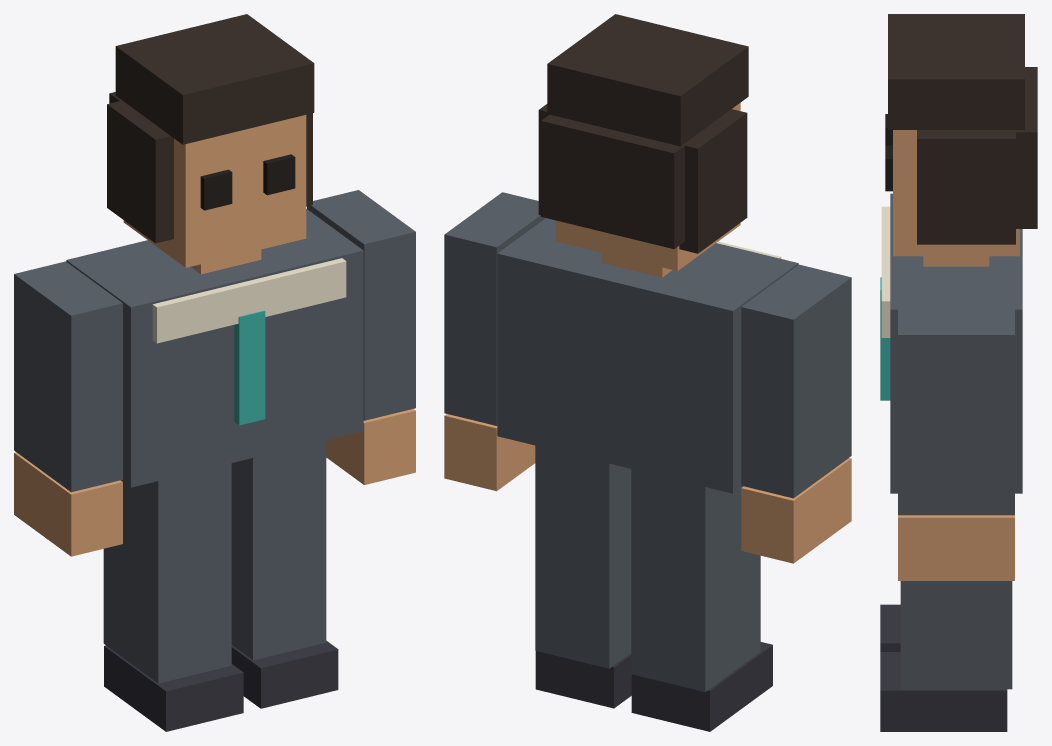
The model's file is people__businessman.glb.
The picture shows the model from 3 angles, left to right: view 1: azimuth 30°, elevation 25°; view 2: azimuth 150°, elevation 25°; view 3: azimuth 270°, elevation 25°; orthographic projection. The views are drawn at different scales.
Size of the model in its own units: 1.6 by 2.79 by 0.62.
